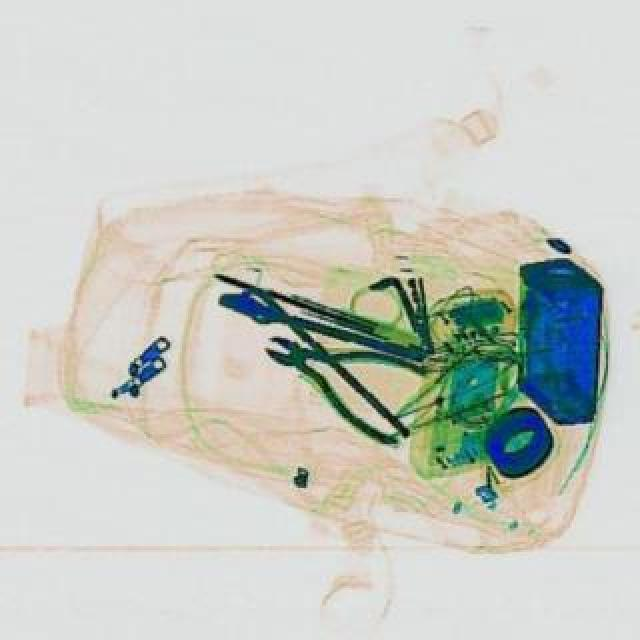wrench: (244, 308, 434, 452)
